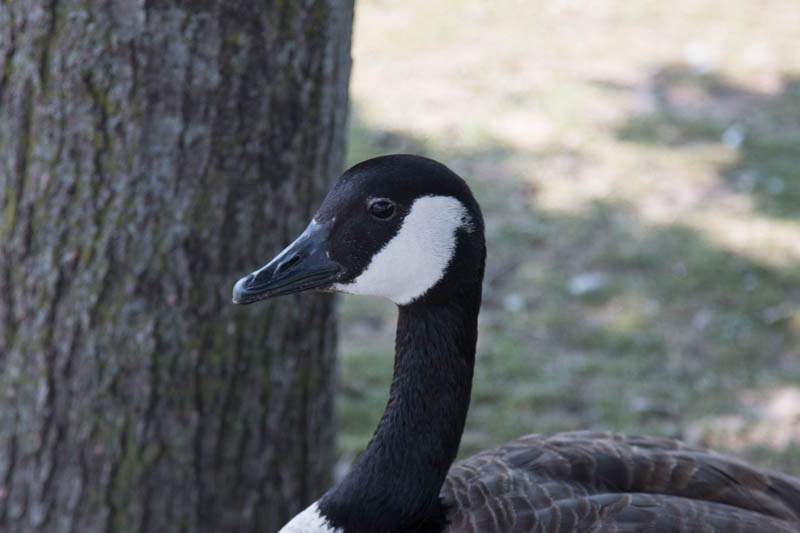goose-head: (230, 152, 486, 307)
